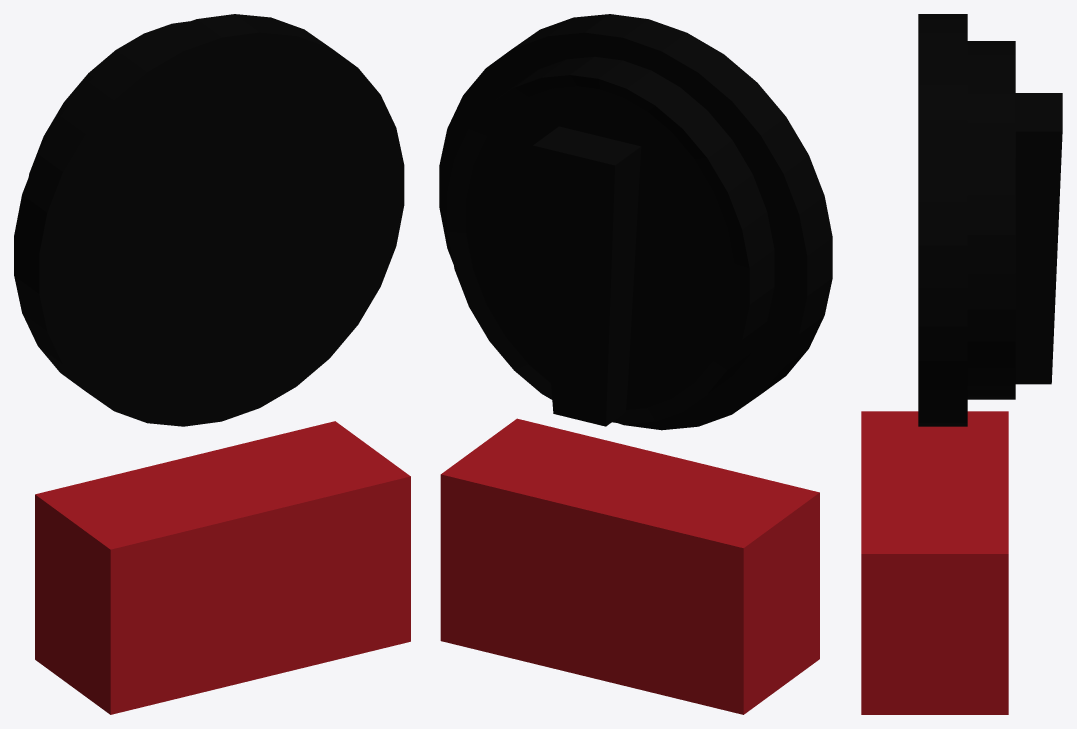
File: tlacitka.fbx
3 views of the same model, side by side, from view 1: azimuth 30°, elevation 25°; view 2: azimuth 150°, elevation 25°; view 3: azimuth 270°, elevation 25° (orthographic). The views are drawn at different scales.
Parts seen in each view (by area): view 1: Cube.022, Cube.021; view 2: Cube.022, Cube.021; view 3: Cube.022, Cube.021.
Part boxes in pixels (left/top/right/bottom): Cube.022: left=14, top=14, right=404, bottom=426; Cube.021: left=35, top=421, right=410, bottom=714; Cube.022: left=439, top=14, right=832, bottom=430; Cube.021: left=440, top=418, right=819, bottom=714; Cube.022: left=918, top=14, right=1062, bottom=426; Cube.021: left=861, top=411, right=1008, bottom=714.
Size of the model in its own units: 21.06 by 34.29 by 10.32.
